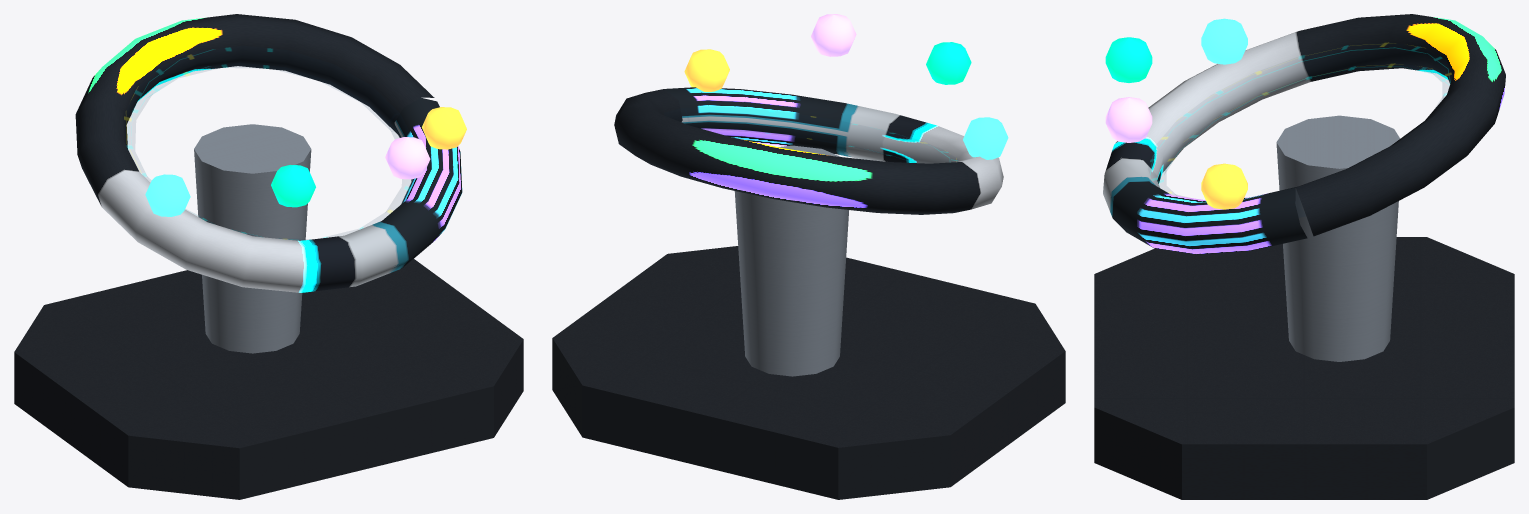
The model's file is prop_bci_headband.glb.
3 renders of one model, left to right at view 1: azimuth 30°, elevation 25°; view 2: azimuth 150°, elevation 25°; view 3: azimuth 270°, elevation 25°, orthographic. The views are drawn at different scales.
Visible parts, largest first — view 1: BCIHeadband_Root; view 2: BCIHeadband_Root; view 3: BCIHeadband_Root.
Boxes of the visible parts, x1,y1,x2,y2 form: BCIHeadband_Root: [14, 14, 523, 499]; BCIHeadband_Root: [552, 14, 1065, 499]; BCIHeadband_Root: [1094, 14, 1514, 499].
Bounding box in the file's own units: 0.28 × 0.2127 × 0.24.
Materials: 8 (8 with a texture image).
